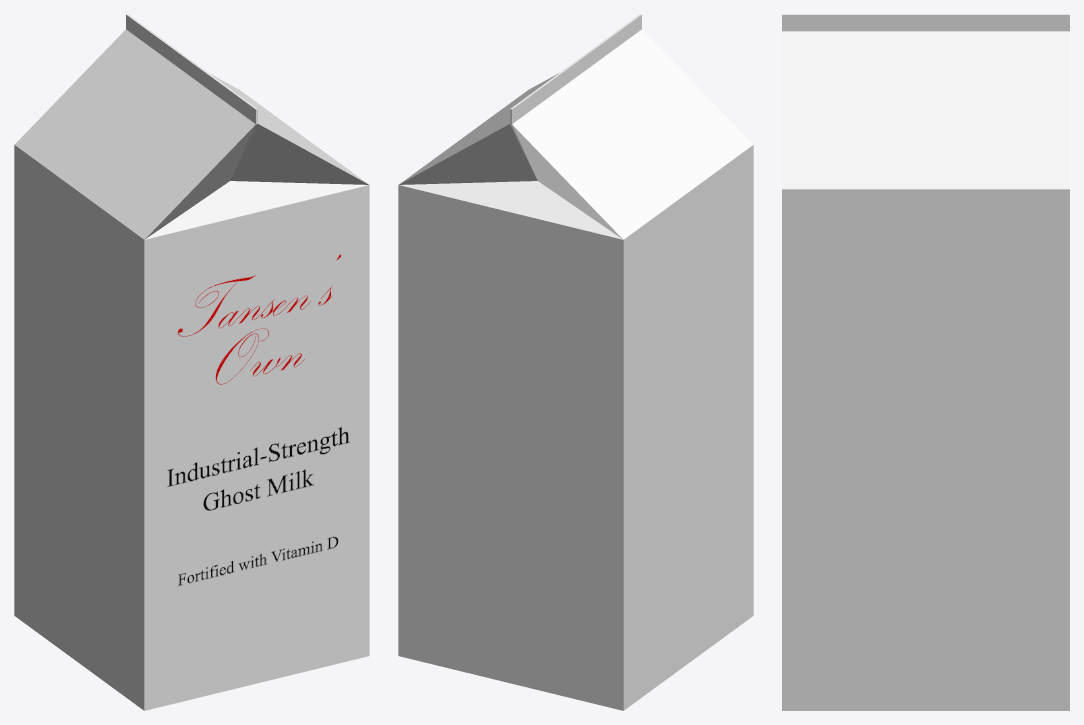
The model's file is milk.obj.
3 views of the same model, side by side, from view 1: azimuth 30°, elevation 25°; view 2: azimuth 150°, elevation 25°; view 3: azimuth 270°, elevation 25° (orthographic). The views are drawn at different scales.
Parts seen in each view (by area): view 1: Box001, Box002; view 2: Box002, Box001; view 3: Box001, Box002.
Part boxes in pixels (box(x1,y1,x2,y2)): Box001: box(79, 61, 369, 710); Box002: box(14, 14, 303, 662); Box002: box(398, 61, 688, 710); Box001: box(464, 14, 753, 662); Box001: box(782, 14, 925, 710); Box002: box(926, 14, 1069, 710).
Size of the model in its own units: 4 by 9.75 by 4.
